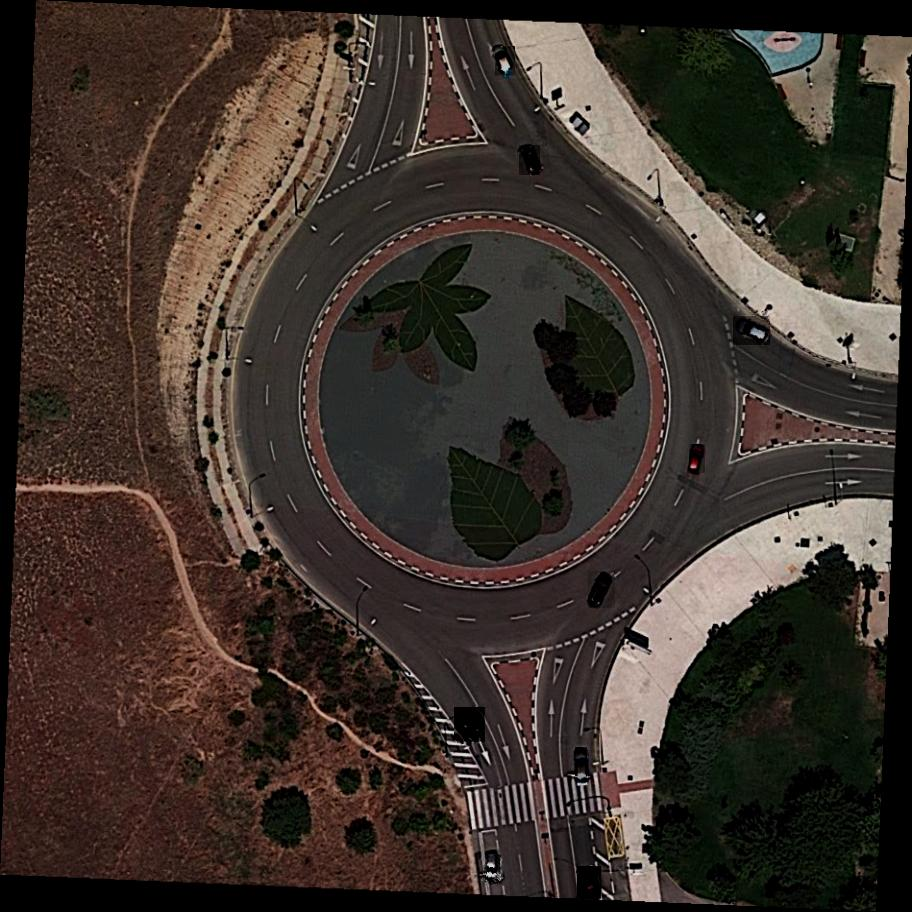small-vehicle: (454, 707, 485, 744), (732, 317, 772, 345), (588, 571, 615, 610), (576, 867, 602, 900), (490, 46, 515, 77), (519, 145, 540, 176), (689, 445, 707, 474), (575, 747, 587, 782), (487, 855, 498, 880)
